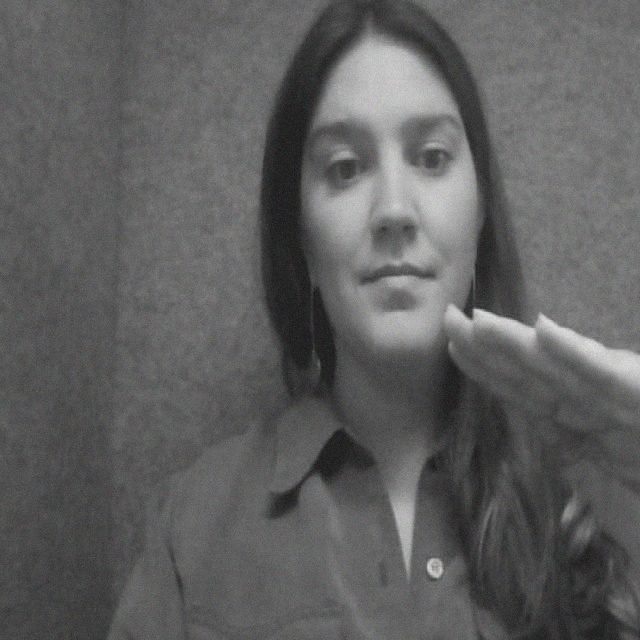Rock: (429, 273, 640, 556)
